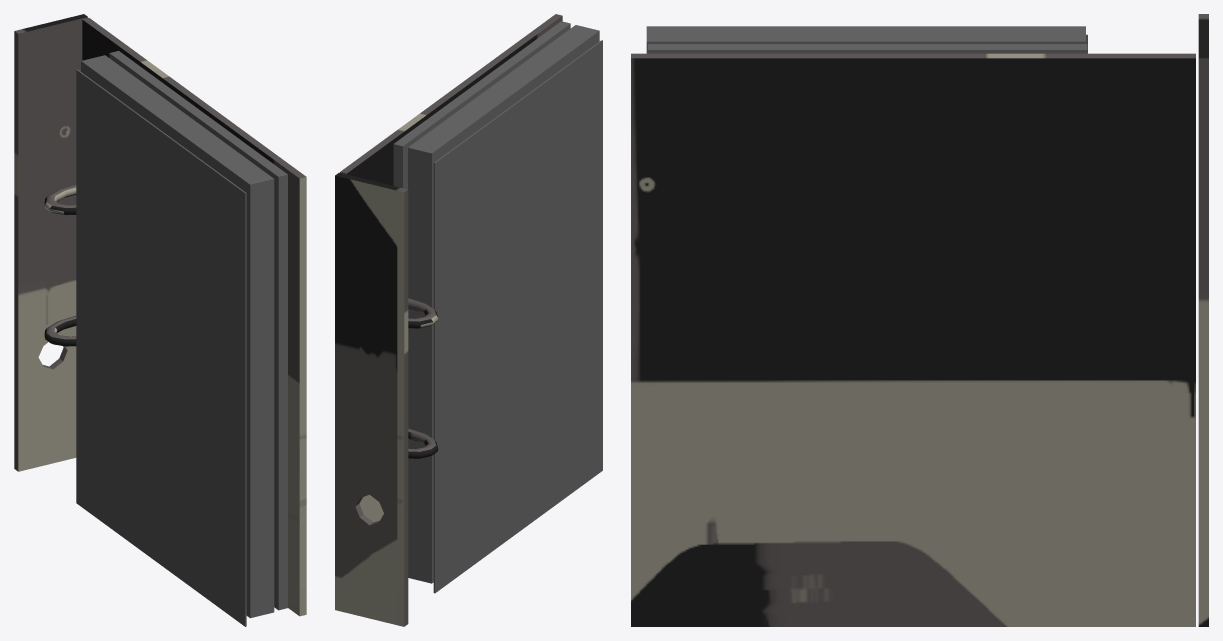
The model's file is Aktenordner_Lou.FBX.
3 views of the same model, side by side, from view 1: azimuth 30°, elevation 25°; view 2: azimuth 150°, elevation 25°; view 3: azimuth 270°, elevation 25° (orthographic). The views are drawn at different scales.
Visible parts, largest first — view 1: Object001, Object005, Object002, Object004, Object003, back; view 2: Object001, Object005, Object002, Object004, Object003, back; view 3: Object004, Object002, Object005, Object003.
Boxes of the visible parts, box(x1,y1,x2,y2) form: Object001: box(76, 69, 246, 626); Object005: box(14, 14, 87, 471); Object002: box(81, 55, 274, 618); Object004: box(82, 18, 306, 616); Object003: box(109, 51, 287, 610); back: box(44, 184, 76, 346); Object001: box(433, 40, 602, 593); Object005: box(335, 172, 408, 626); Object002: box(408, 25, 599, 583); Object004: box(340, 14, 562, 522); Object003: box(393, 21, 570, 189); back: box(408, 298, 438, 458); Object004: box(631, 53, 1195, 626); Object002: box(646, 26, 1085, 53); Object005: box(1198, 14, 1208, 626); Object003: box(648, 44, 1087, 53).
Bounding box in the file's own units: 5 × 30.3 × 27.63.
